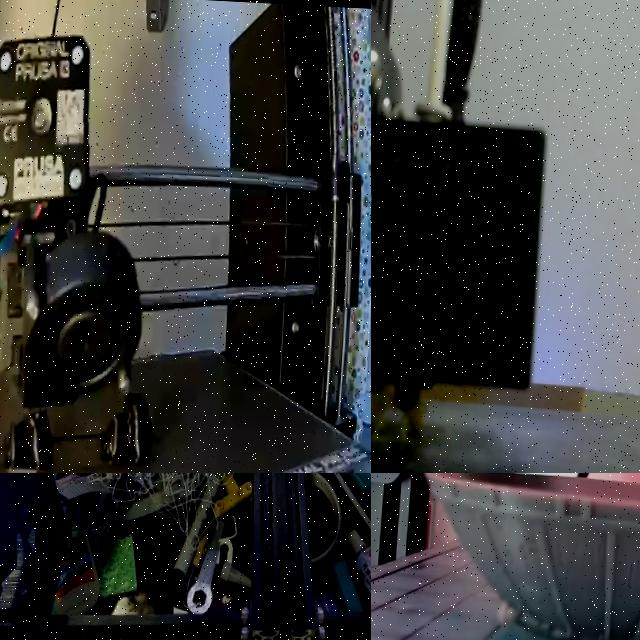spaghetti: (371, 381, 425, 444)
